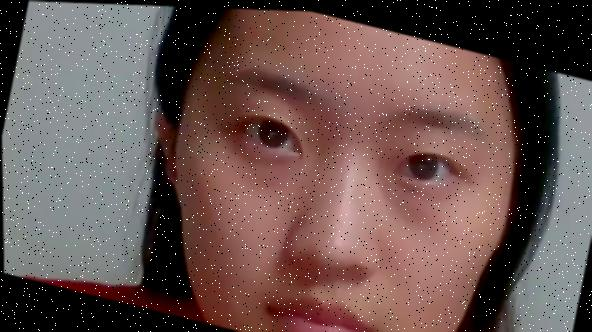eye: (255, 113, 291, 150), (405, 144, 440, 181)
iris: (239, 111, 307, 154), (397, 143, 454, 184)
